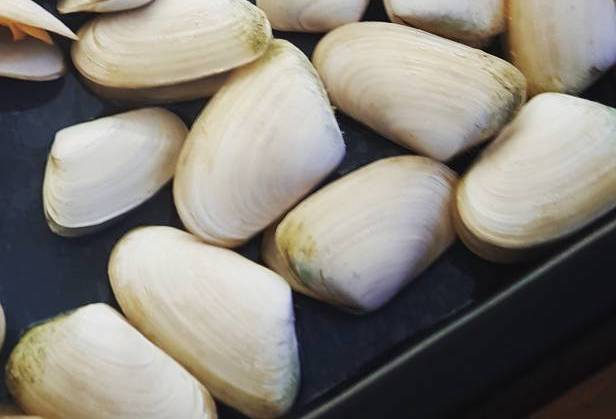tuatua: (107, 225, 304, 419), (171, 32, 347, 240), (313, 19, 526, 160), (277, 150, 457, 312), (454, 82, 614, 255), (6, 303, 212, 419), (37, 106, 188, 236), (68, 1, 274, 92)
